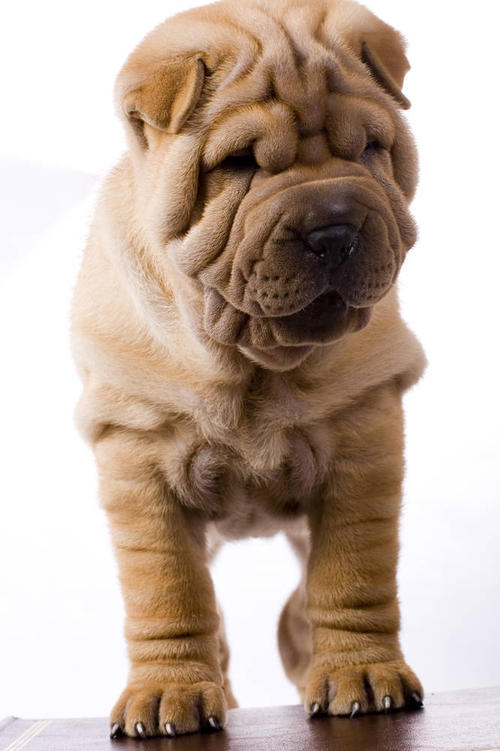dog: (74, 16, 458, 408)
